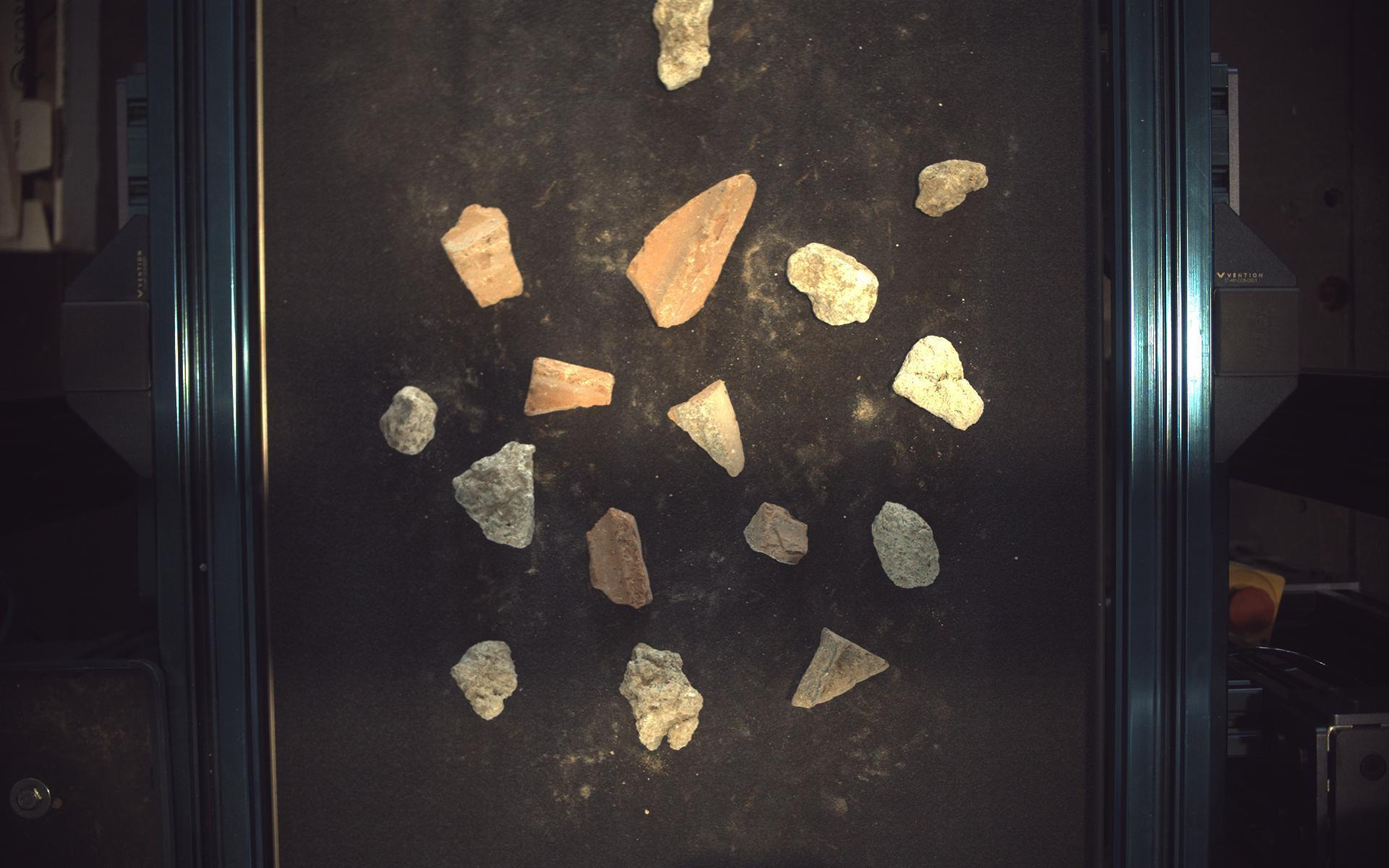brick: (627, 172, 757, 328), (441, 203, 524, 307), (793, 629, 891, 709), (668, 379, 746, 477), (587, 508, 653, 609), (524, 357, 615, 416), (745, 503, 810, 566)
concrete: (453, 441, 536, 549), (621, 644, 704, 752), (894, 335, 986, 430), (789, 242, 880, 326), (873, 502, 941, 590), (653, 1, 714, 89), (451, 642, 518, 721), (917, 158, 990, 216), (380, 386, 438, 455)
